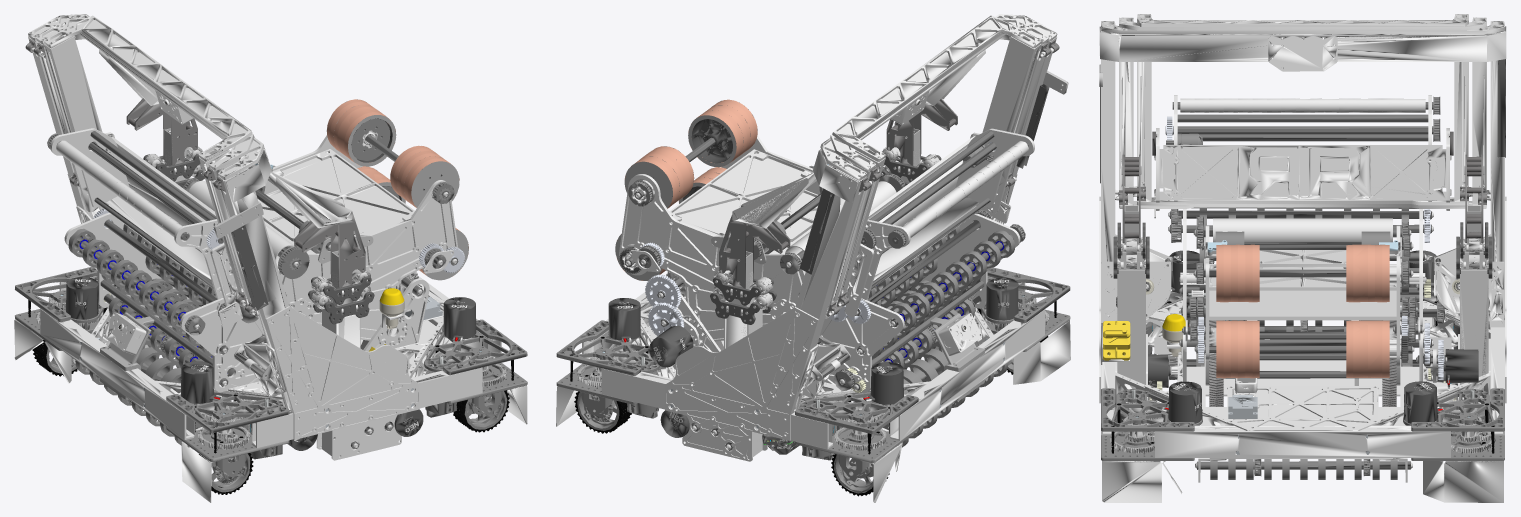
Rendered from riot-1706.glb.
3 views of the same model, side by side, from view 1: azimuth 30°, elevation 25°; view 2: azimuth 150°, elevation 25°; view 3: azimuth 270°, elevation 25° (orthographic). The views are drawn at different scales.
Parts seen in each view (by area): view 1: frame, shooter, elevator-stage, carriage, climber, climber-mid; view 2: frame, shooter, elevator-stage, carriage, climber, climber-mid; view 3: frame, shooter, carriage, elevator-stage, climber, climber-mid.
Boxes of the visible parts, x1,y1,x2,y2 form: frame: (14, 14, 527, 502); shooter: (179, 99, 468, 349); elevator-stage: (25, 15, 286, 318); carriage: (47, 128, 242, 328); climber: (99, 49, 365, 295); climber-mid: (143, 146, 371, 312); frame: (556, 14, 1070, 502); shooter: (615, 99, 905, 350); elevator-stage: (797, 15, 1059, 318); carriage: (844, 128, 1034, 316); climber: (719, 50, 985, 295); climber-mid: (713, 147, 941, 312); frame: (1099, 21, 1506, 502); shooter: (1182, 216, 1423, 406); carriage: (1152, 95, 1453, 218); elevator-stage: (1115, 14, 1490, 208); climber: (1121, 75, 1484, 251); climber-mid: (1117, 222, 1488, 269).
Size of the model in its own units: 0.6604 by 0.6978 by 0.7176.
